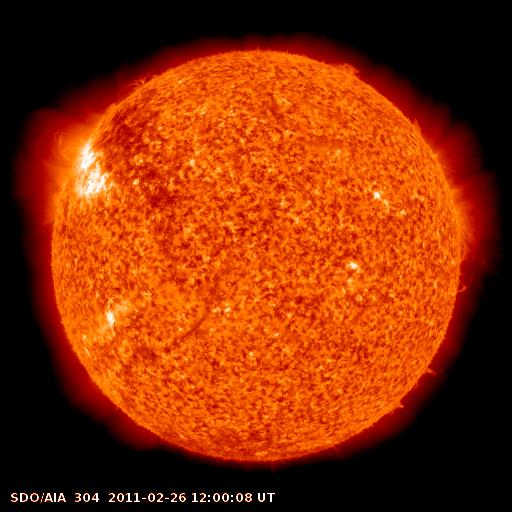prominence: (109, 69, 172, 106), (325, 48, 367, 93)
